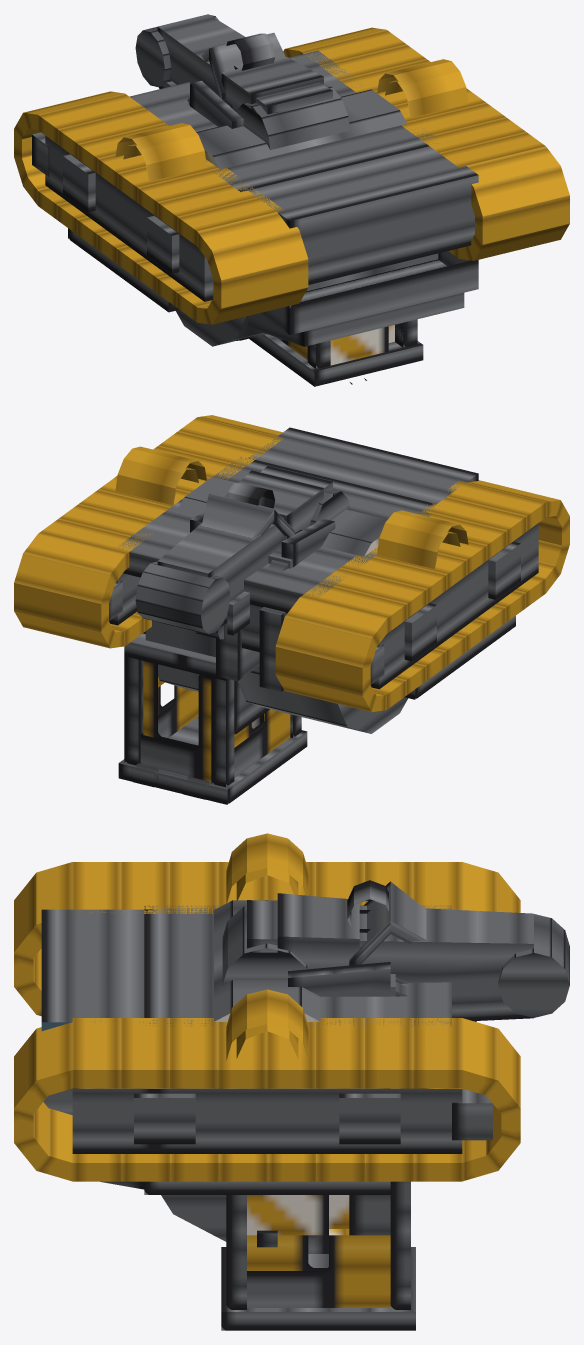
Rendered from hydraulic_crawler.obj.
3 views of the same model, one above another, from view 1: azimuth 30°, elevation 25°; view 2: azimuth 150°, elevation 25°; view 3: azimuth 270°, elevation 25° (orthographic). The views are drawn at different scales.
Visible parts, largest first — view 1: house, track_right, track_left, undercarriage, boom, wheel_right_0, wheel_left_0, tool_breaker, tool_bucket, tool_grapple; view 2: house, track_right, track_left, undercarriage, boom, house_glass, wheel_left_0, wheel_right_0, tool_grapple, tool_breaker, tool_bucket; view 3: track_left, house, undercarriage, boom, track_right, house_glass, tool_breaker, tool_bucket, tool_grapple, wheel_left_0, wheel_right_0, wheel_left_2 (+1 smaller).
Part boxes in pixels (left/top/right/bottom): house: left=129, top=50, right=478, bottom=386; track_right: left=14, top=91, right=308, bottom=324; track_left: left=283, top=27, right=569, bottom=260; undercarriage: left=32, top=89, right=438, bottom=346; boom: left=135, top=14, right=350, bottom=149; wheel_right_0: left=115, top=123, right=206, bottom=181; wheel_left_0: left=377, top=59, right=468, bottom=117; tool_breaker: left=221, top=57, right=323, bottom=112; tool_bucket: left=187, top=58, right=297, bottom=128; tool_grapple: left=201, top=32, right=285, bottom=108; house: left=118, top=427, right=478, bottom=804; track_right: left=275, top=480, right=569, bottom=712; track_left: left=14, top=415, right=283, bottom=648; undercarriage: left=109, top=477, right=538, bottom=733; boom: left=135, top=466, right=349, bottom=639; house_glass: left=140, top=661, right=290, bottom=781; wheel_left_0: left=115, top=446, right=206, bottom=505; wheel_right_0: left=377, top=510, right=468, bottom=569; tool_grapple: left=201, top=493, right=302, bottom=538; tool_breaker: left=224, top=470, right=323, bottom=540; tool_bucket: left=190, top=511, right=335, bottom=571; track_left: left=14, top=1018, right=520, bottom=1181; house: left=41, top=905, right=451, bottom=1330; undercarriage: left=72, top=900, right=492, bottom=1241; boom: left=222, top=880, right=569, bottom=1021; track_right: left=14, top=862, right=520, bottom=1016; house_glass: left=247, top=1235, right=390, bottom=1307; tool_breaker: left=277, top=893, right=359, bottom=969; tool_bucket: left=288, top=962, right=408, bottom=996; tool_grapple: left=349, top=881, right=426, bottom=965; wheel_left_0: left=226, top=989, right=308, bottom=1060; wheel_right_0: left=226, top=833, right=308, bottom=903; wheel_left_2: left=236, top=1024, right=298, bottom=1058.
Bounding box in the file's own units: 48 × 42.4 × 54.21.
1 material, 1 textured.
